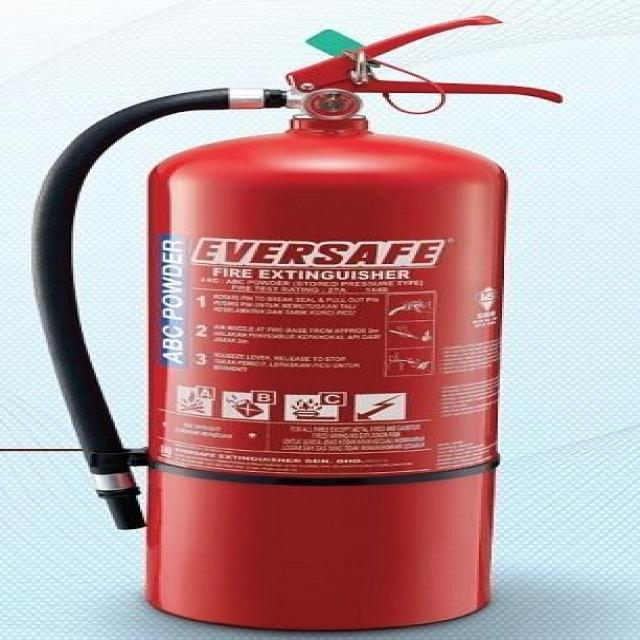fire_extinguisher: (18, 10, 570, 635)
